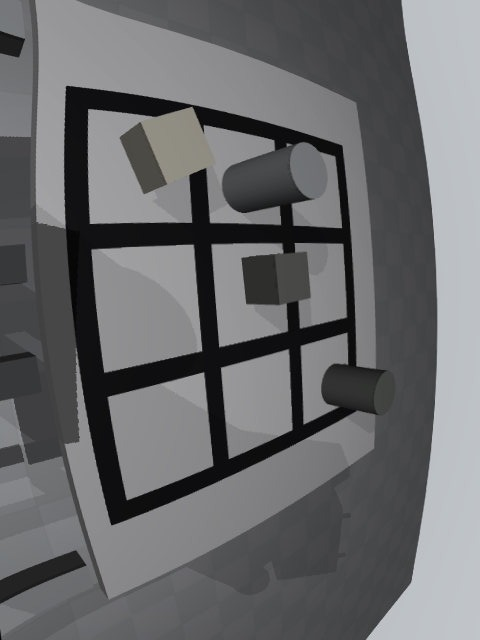can: (222, 142, 328, 213)
cube: (241, 252, 311, 306)
cylinder: (321, 363, 396, 416)
foam: (119, 107, 216, 194)
